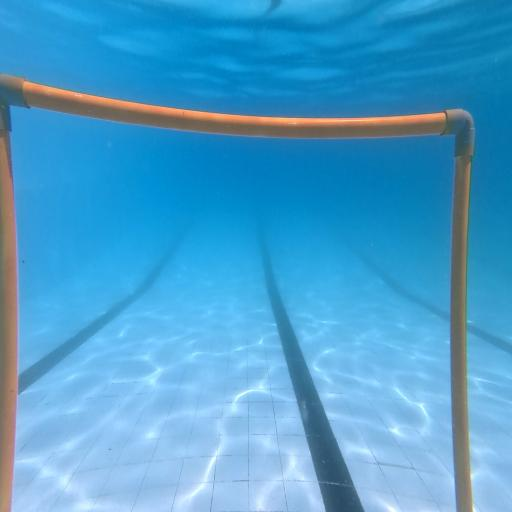gate: (0, 71, 476, 512)
